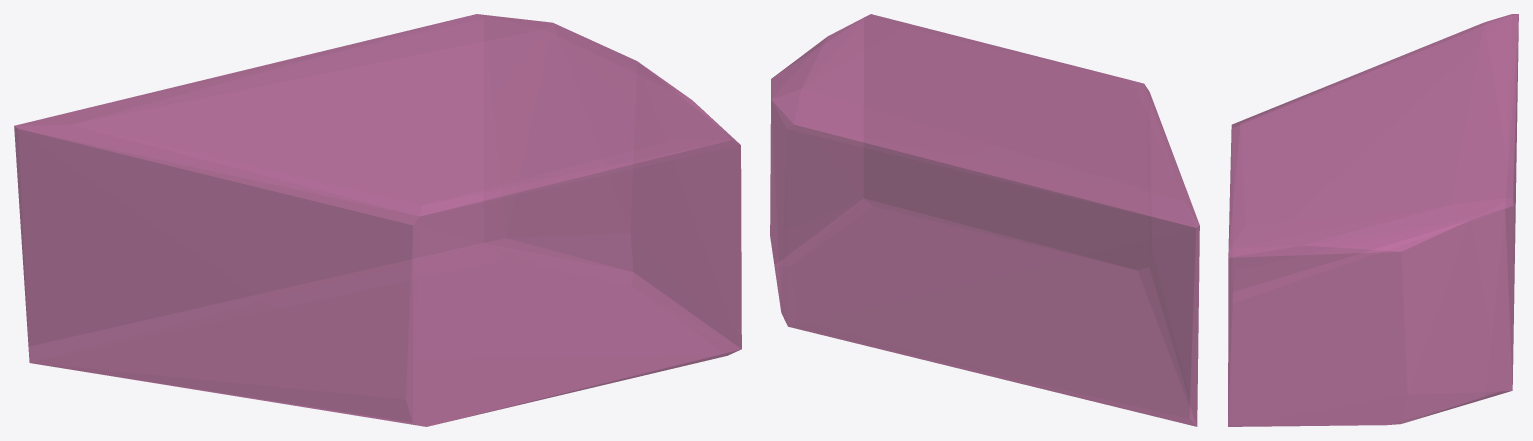
The picture shows the model from 3 angles, left to right: view 1: azimuth 30°, elevation 25°; view 2: azimuth 150°, elevation 25°; view 3: azimuth 270°, elevation 25°; orthographic projection. The views are drawn at different scales.
Visible parts, largest first — view 1: Shape_IndexedFaceSet.007_Shape_IndexedFaceSet.5542; view 2: Shape_IndexedFaceSet.007_Shape_IndexedFaceSet.5542; view 3: Shape_IndexedFaceSet.007_Shape_IndexedFaceSet.5542.
Part boxes in pixels (x1,y1,x2,y2): Shape_IndexedFaceSet.007_Shape_IndexedFaceSet.5542: (14, 14, 741, 426); Shape_IndexedFaceSet.007_Shape_IndexedFaceSet.5542: (770, 14, 1199, 426); Shape_IndexedFaceSet.007_Shape_IndexedFaceSet.5542: (1228, 14, 1518, 426).
Bounding box in the file's own units: 0.2942 × 0.1232 × 0.1622.
